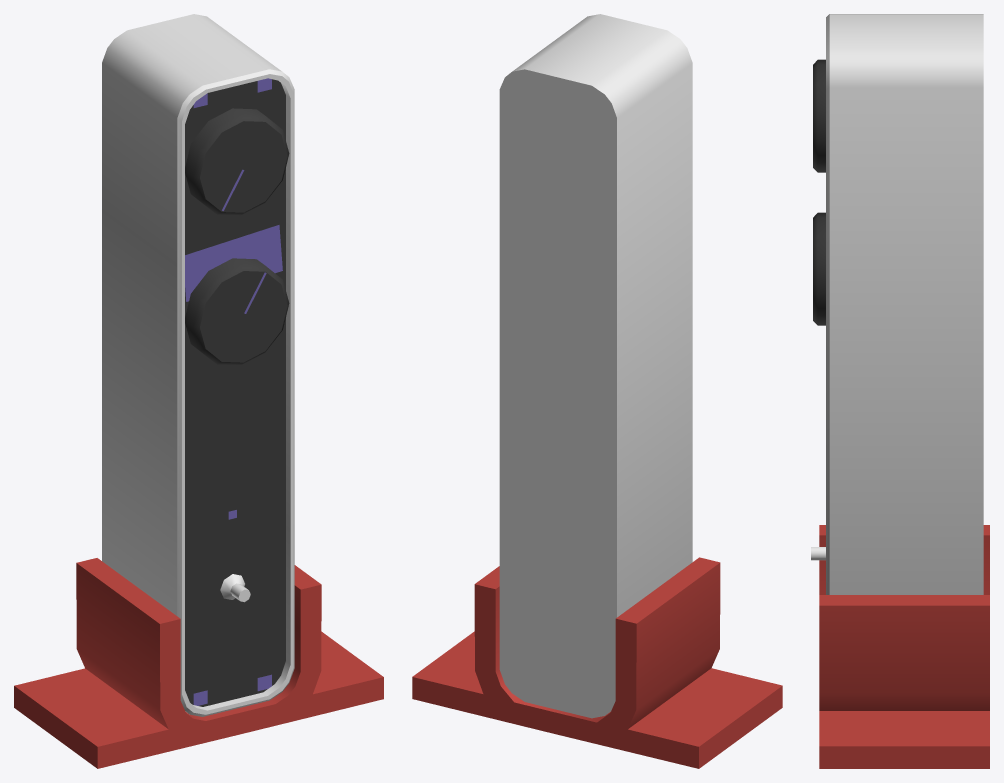
The model's file is XZNuforceS1b.FBX.
The picture shows the model from 3 angles, left to right: view 1: azimuth 30°, elevation 25°; view 2: azimuth 150°, elevation 25°; view 3: azimuth 270°, elevation 25°; orthographic projection. The views are drawn at different scales.
Parts seen in each view (by area): view 1: XZNuforceS1b; view 2: XZNuforceS1b; view 3: XZNuforceS1b.
Part boxes in pixels (x1,y1,x2,y2): XZNuforceS1b: (14, 14, 383, 768); XZNuforceS1b: (412, 14, 782, 768); XZNuforceS1b: (811, 14, 989, 768).
Bounding box in the file's own units: 178 × 388 × 94.18.
